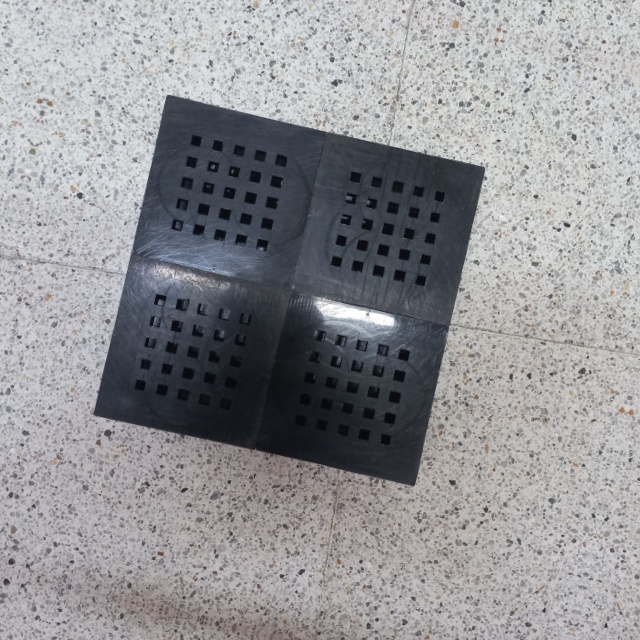pallet: (77, 82, 516, 506)
